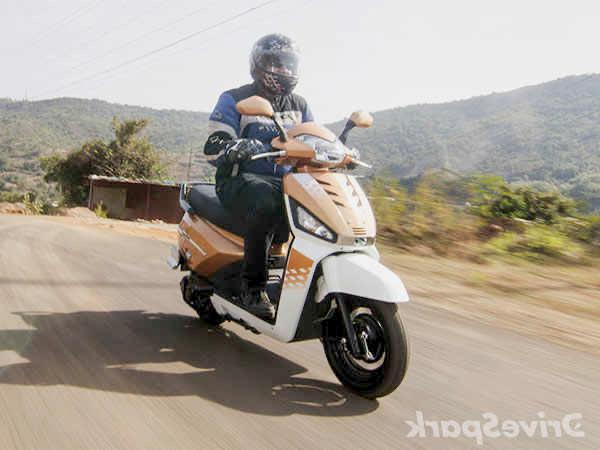With Helmet: (246, 29, 308, 101)
